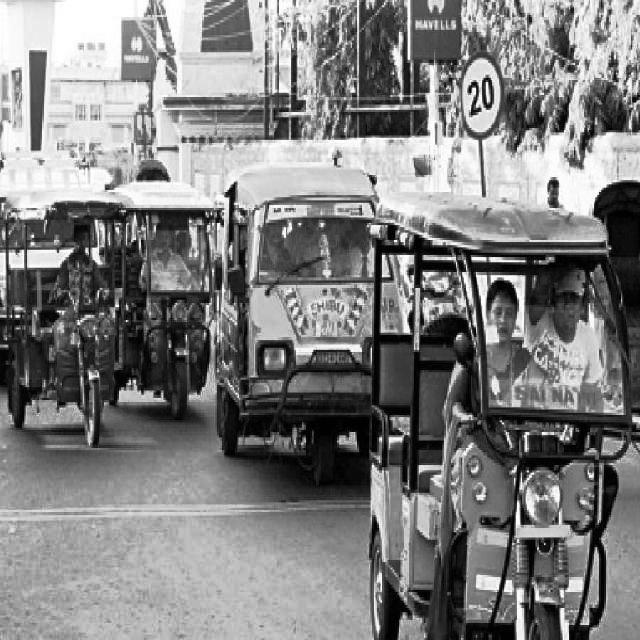Toto: (368, 197, 637, 639), (0, 189, 120, 462), (111, 175, 223, 427)
